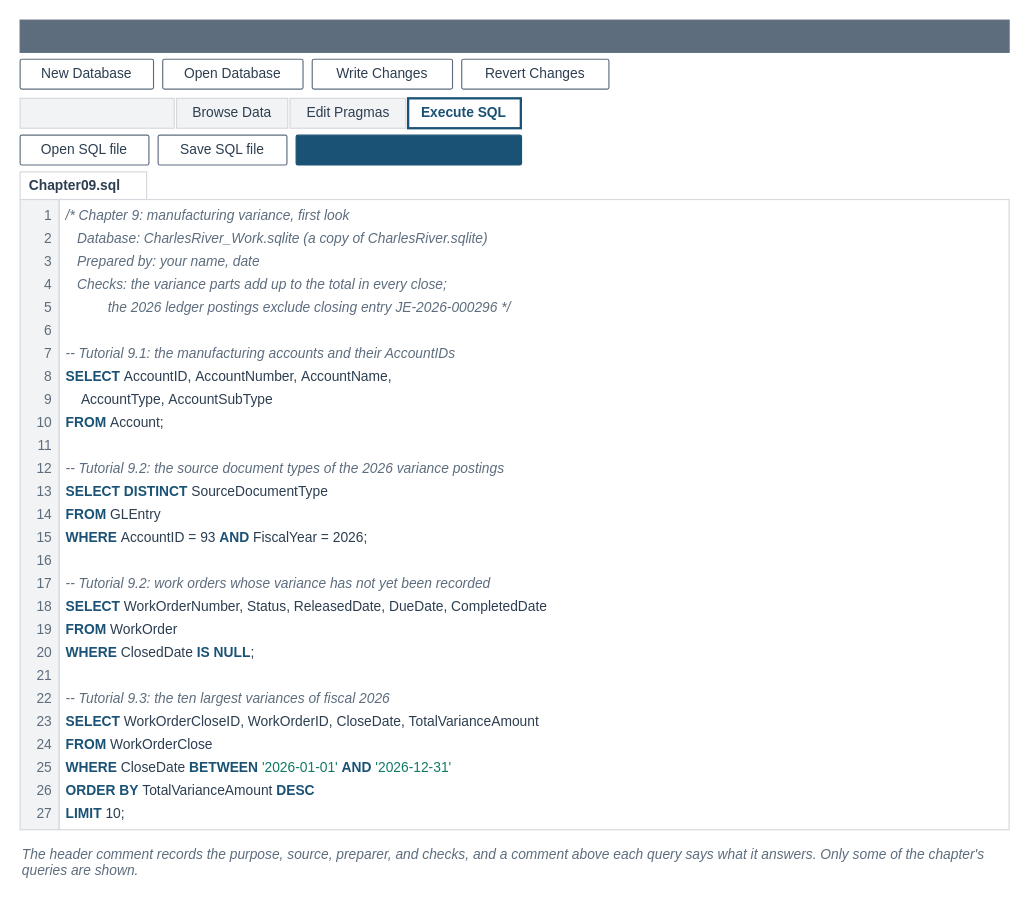
Image size: 1029x907. Some labels were removed from this diagram. Each missing label, with the centre of its shape:
"Database Structure" belongs at pixel 96 112.
"DB Browser for SQLite - CharlesRiver_Work.sqlite" belongs at pixel 514 35.
"▶ Execute all/selected SQL" belongs at pixel 408 149.
